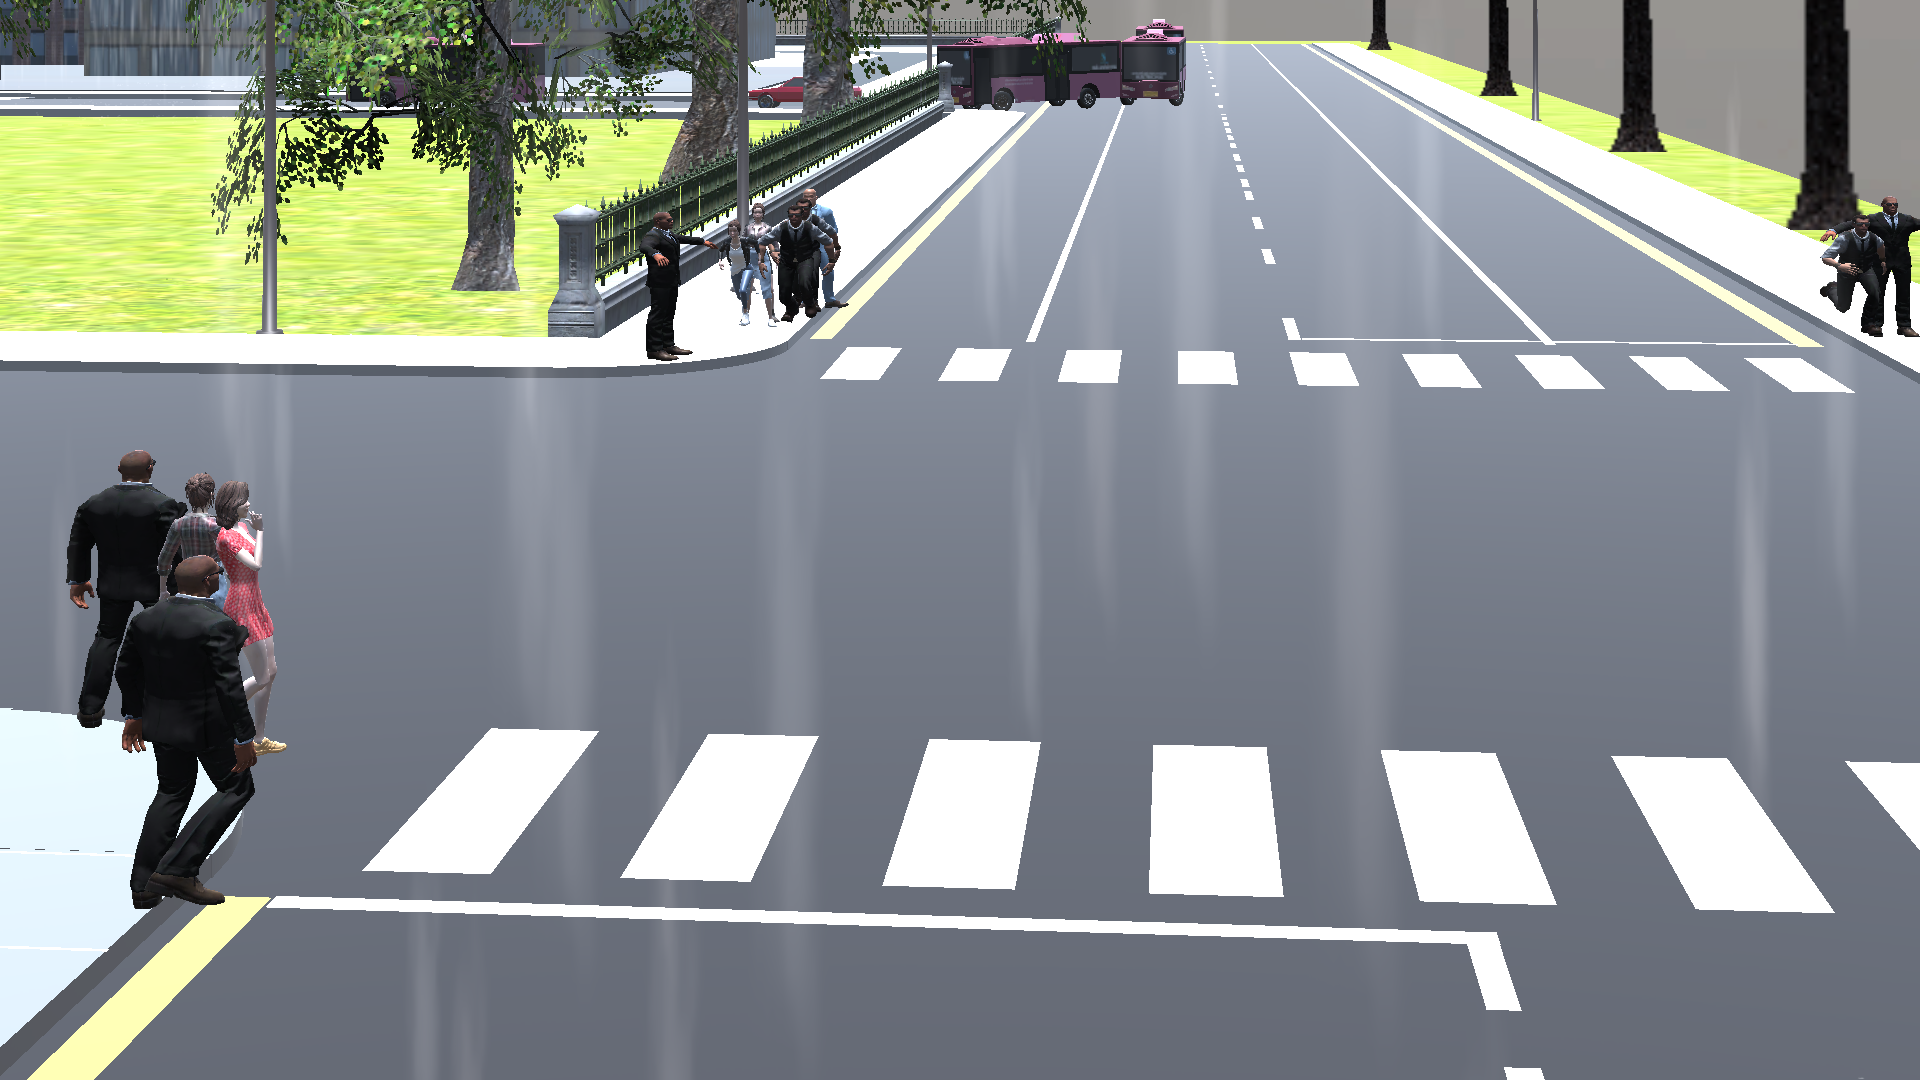pedestrian: (122, 546, 235, 920), (60, 437, 164, 736), (216, 479, 316, 765), (633, 203, 715, 373), (1821, 212, 1889, 343), (1874, 198, 1920, 346), (773, 202, 810, 341), (160, 468, 214, 560), (743, 205, 781, 326), (717, 217, 753, 325)
